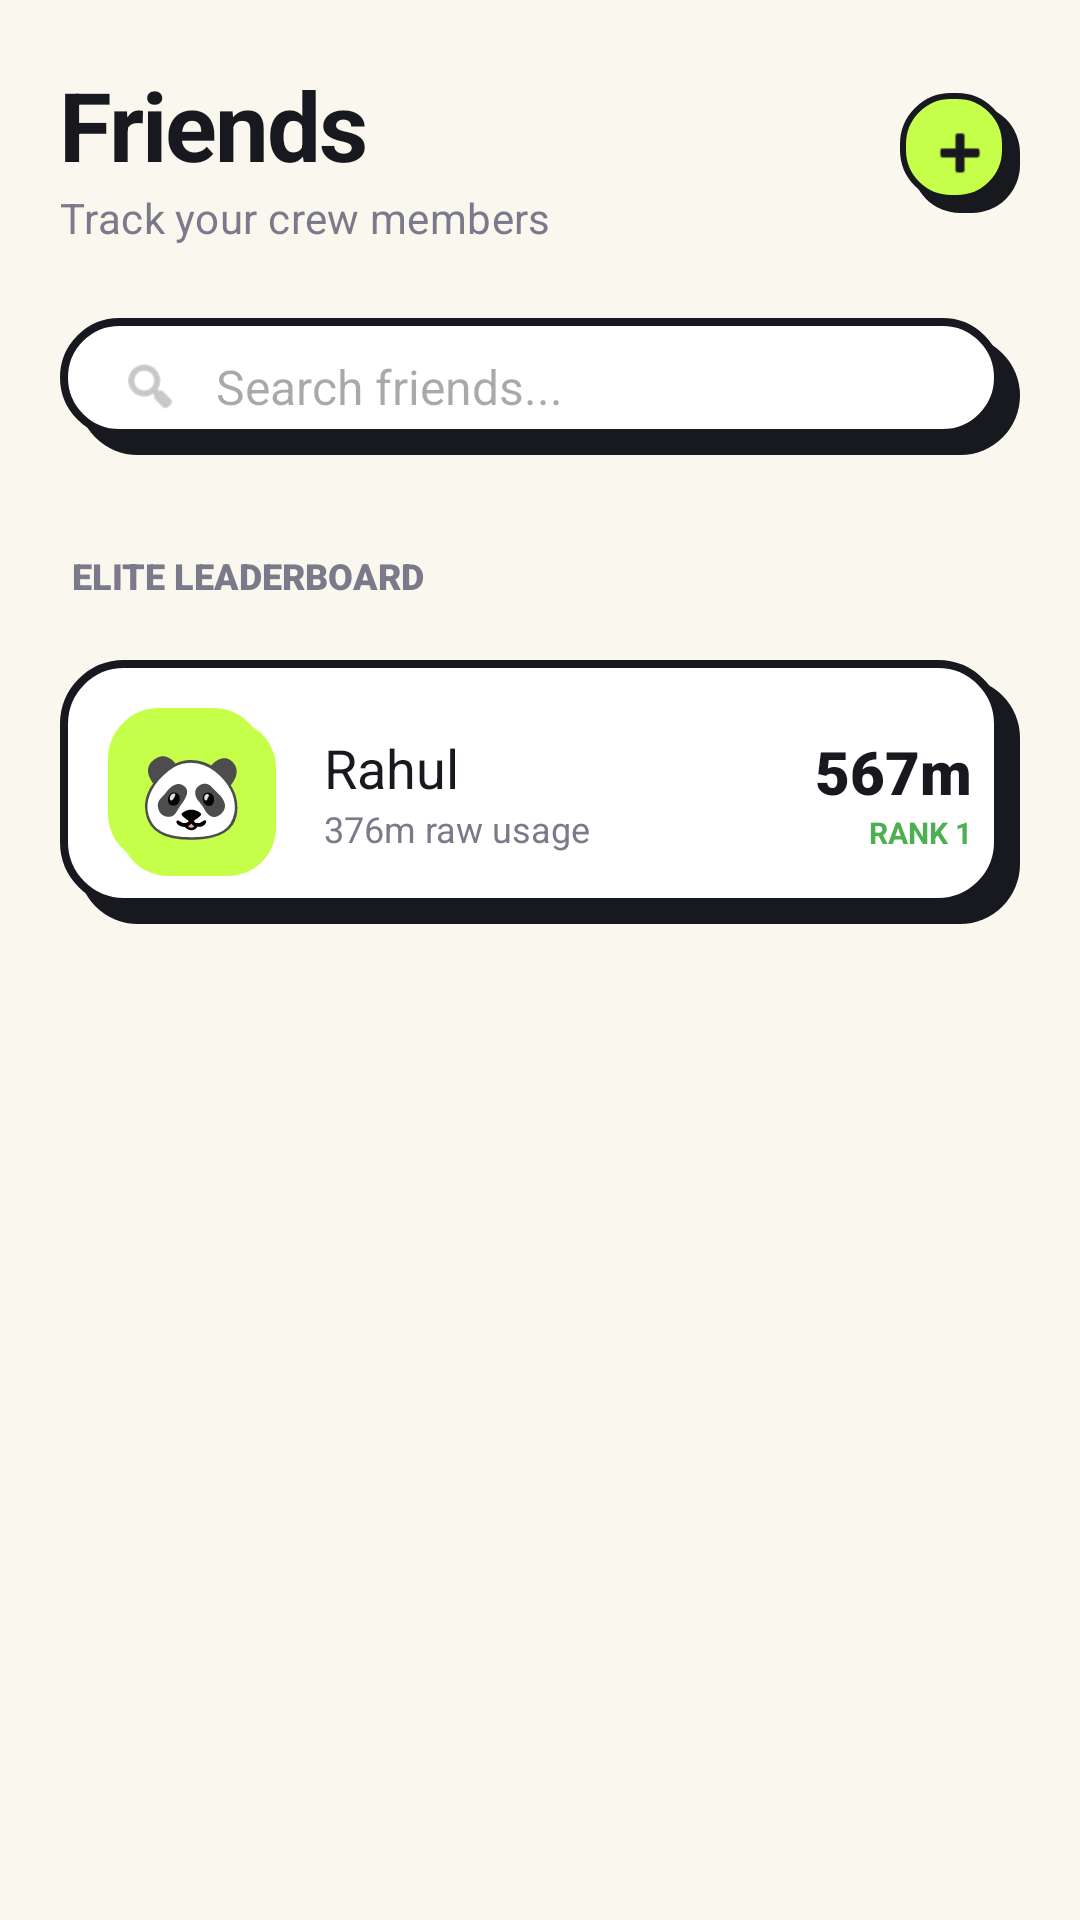

Named icons in this screenshot (1080w x 1920h) and their centers, (x=x, y=y):
add: (x=960, y=153)
